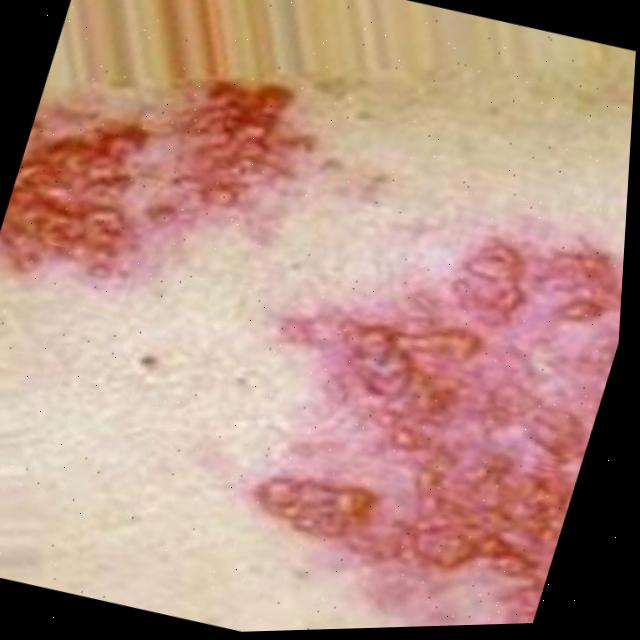Shingles: (265, 217, 626, 631), (0, 25, 307, 332)
